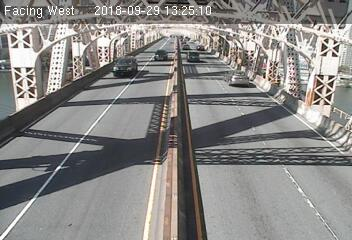car: (221, 67, 259, 92), (111, 56, 145, 77), (150, 44, 172, 64), (185, 52, 204, 65), (181, 42, 190, 50), (195, 45, 205, 50)
